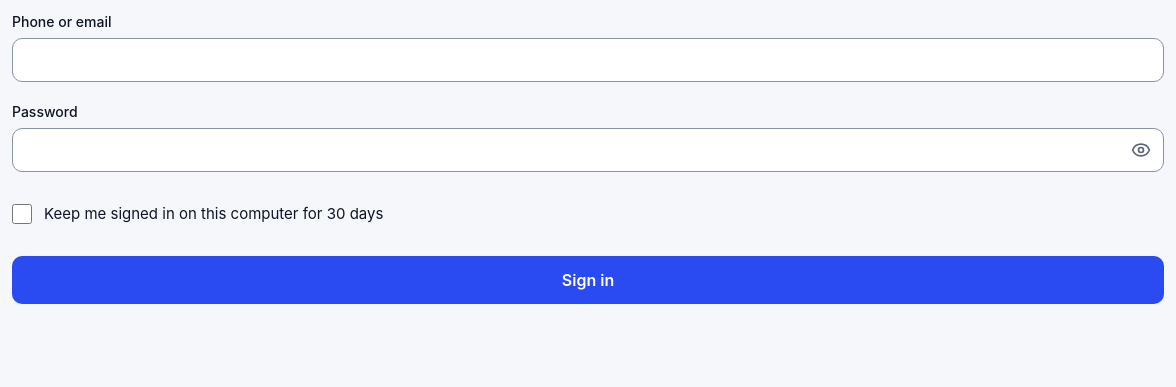
Scenario: AUTH-05 staff two-step (Staff Login 15b/15d) › a 2-step role without a mobile number gets its own message
In the field labelled "Phone or email": (588, 60) [12, 38, 1164, 82], type "owner@example.test"
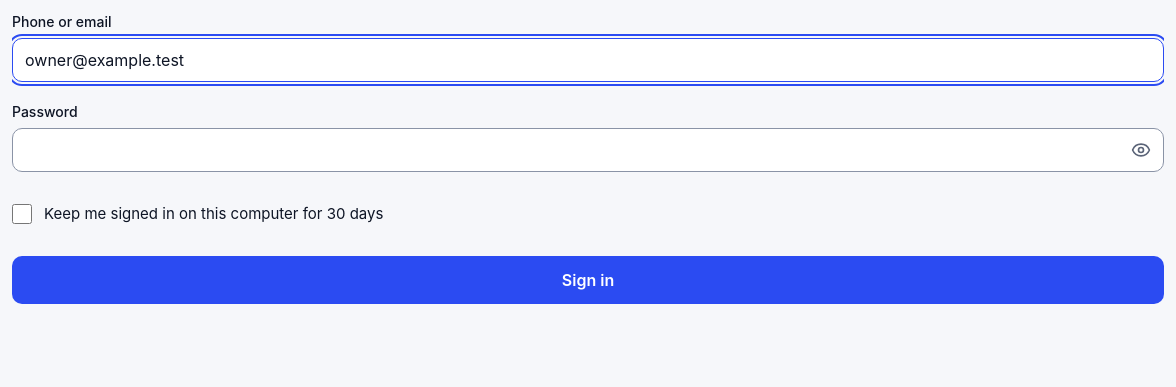
In the password field labelled "Password": (566, 150) [13, 129, 1119, 171], type "correct horse"
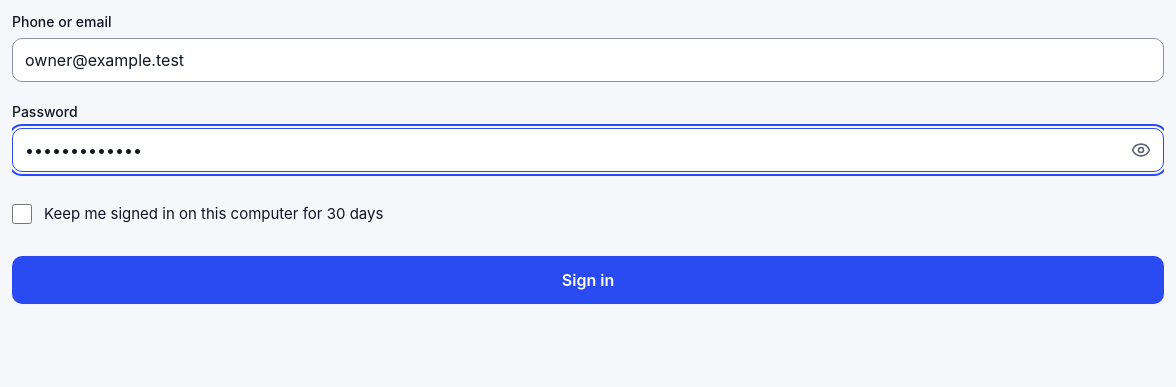
Click the button "Sign in": click(588, 280) [12, 256, 1164, 304]
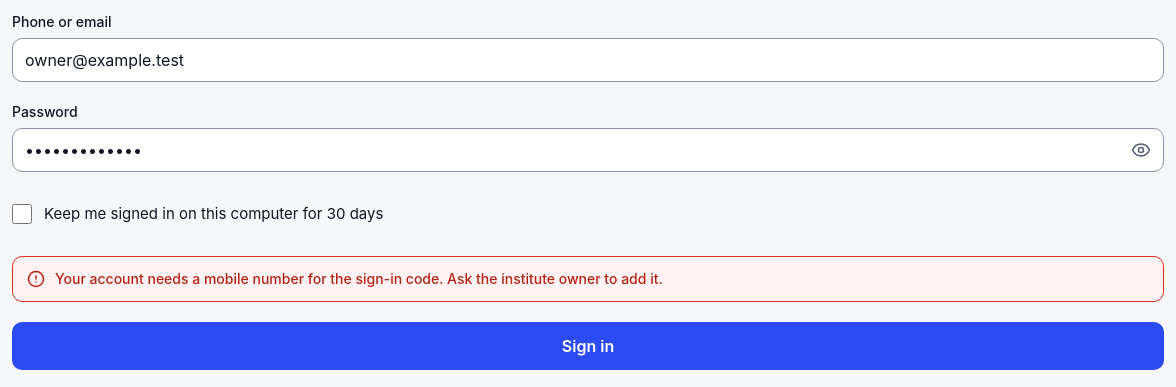
Expected: the message shows "needs a mobile number", [55, 270, 663, 287]
